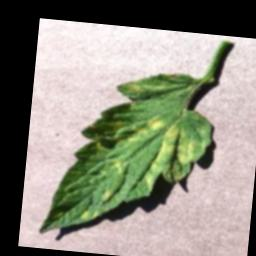Leaf_Mold: (143, 122, 200, 195), (146, 114, 164, 132), (109, 157, 126, 173), (99, 186, 114, 204), (126, 82, 147, 93)
